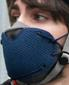with_mask: (1, 2, 69, 85)
